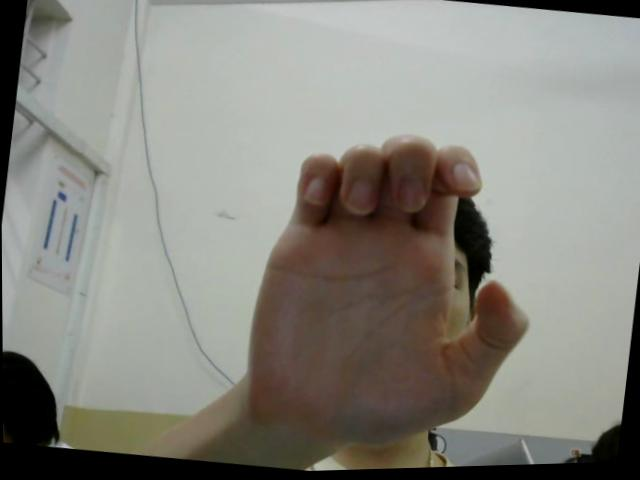E: (234, 113, 551, 460)
